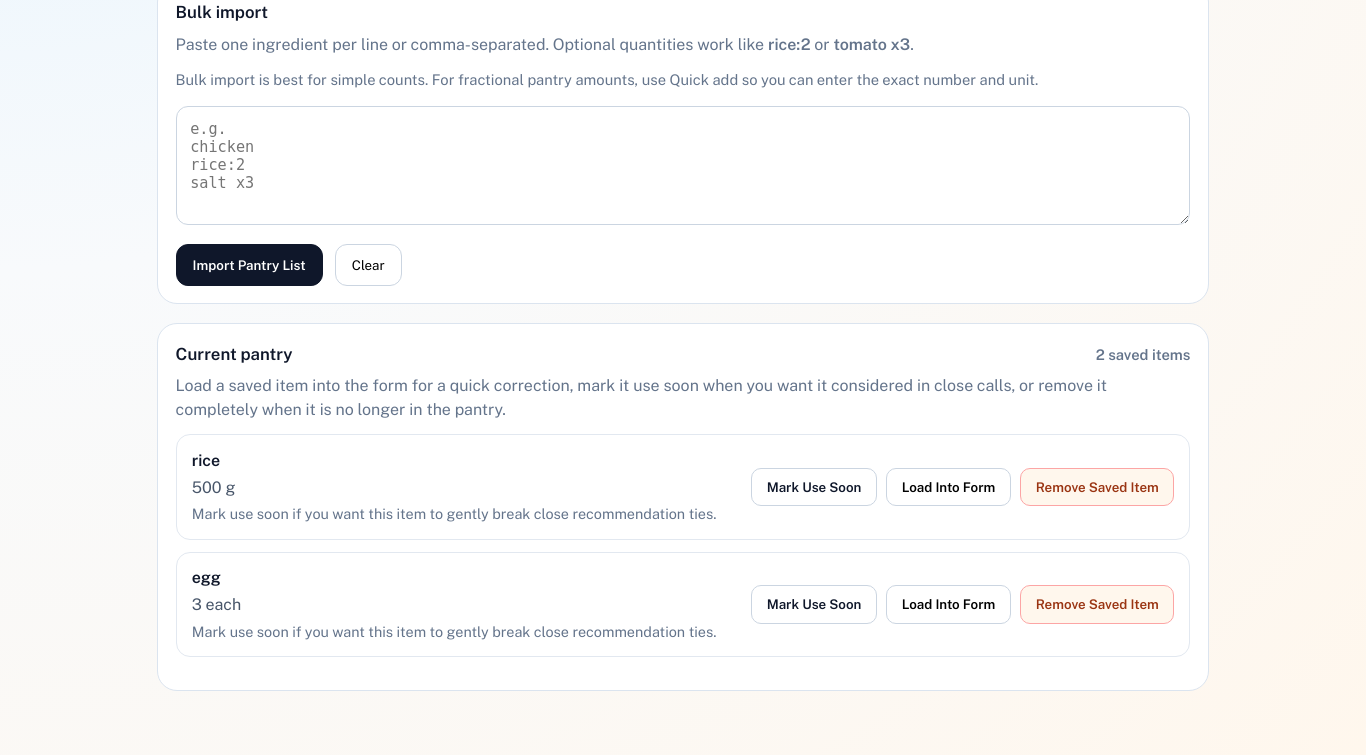
Test: Pantry precision flow › removes an exact pantry row with its saved quantity and unit
(page scrolled)
Click the button "Remove Saved Item" in the row of "500 g": (1097,487) 1020,468 -> 1174,506
(page scrolled)
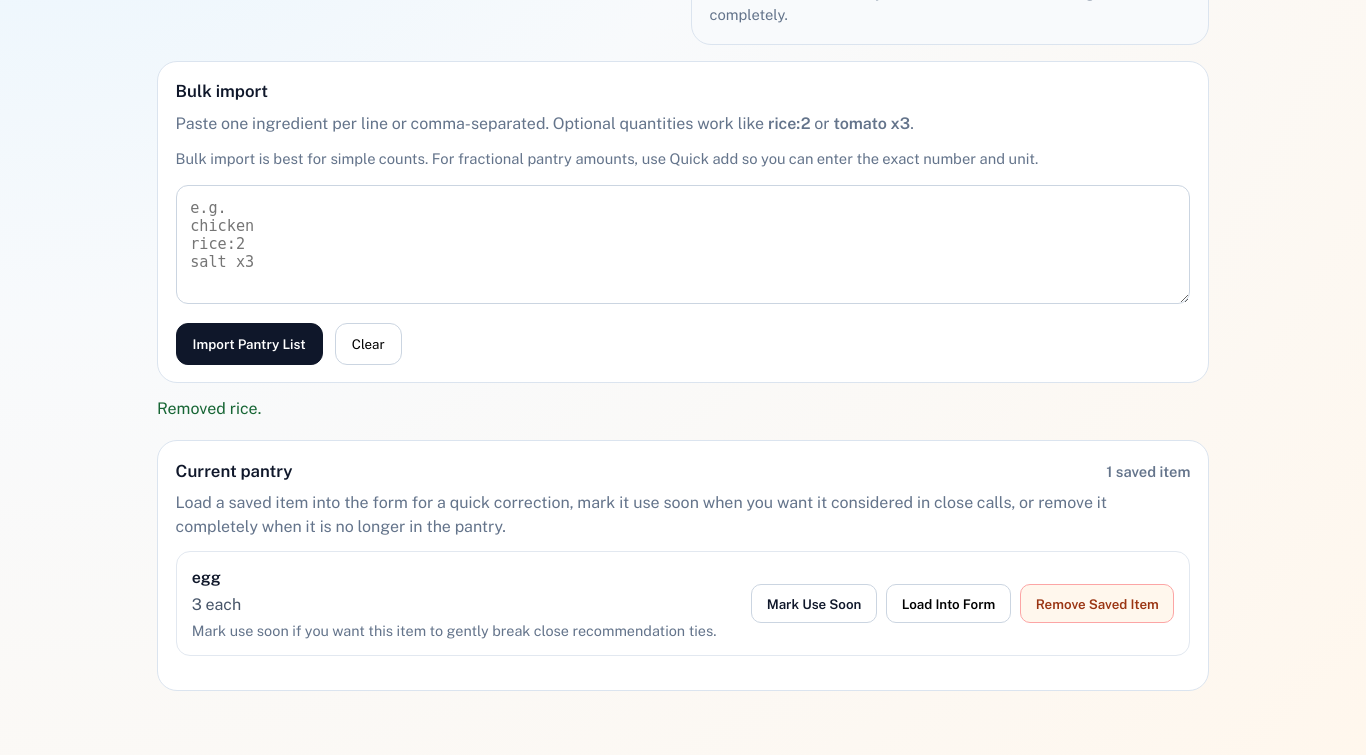
Now the text "Removed rice." is shown, box 157,399 -> 261,418
